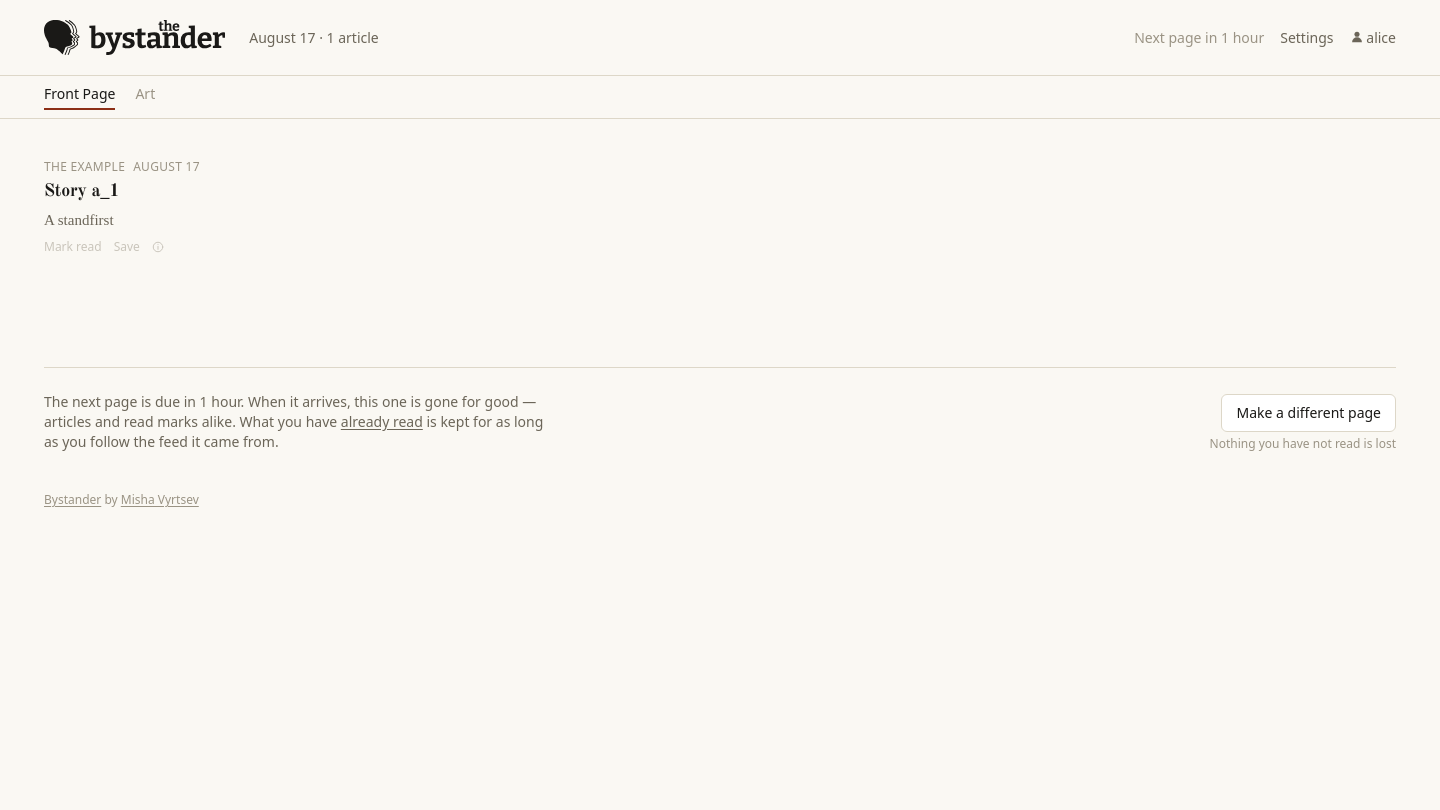
Scenario: ReaderPage composing › goes back to the top whether or not it composed anything
Click the button "Make a different page" at x=1309, y=413, box [1222,394,1396,432]
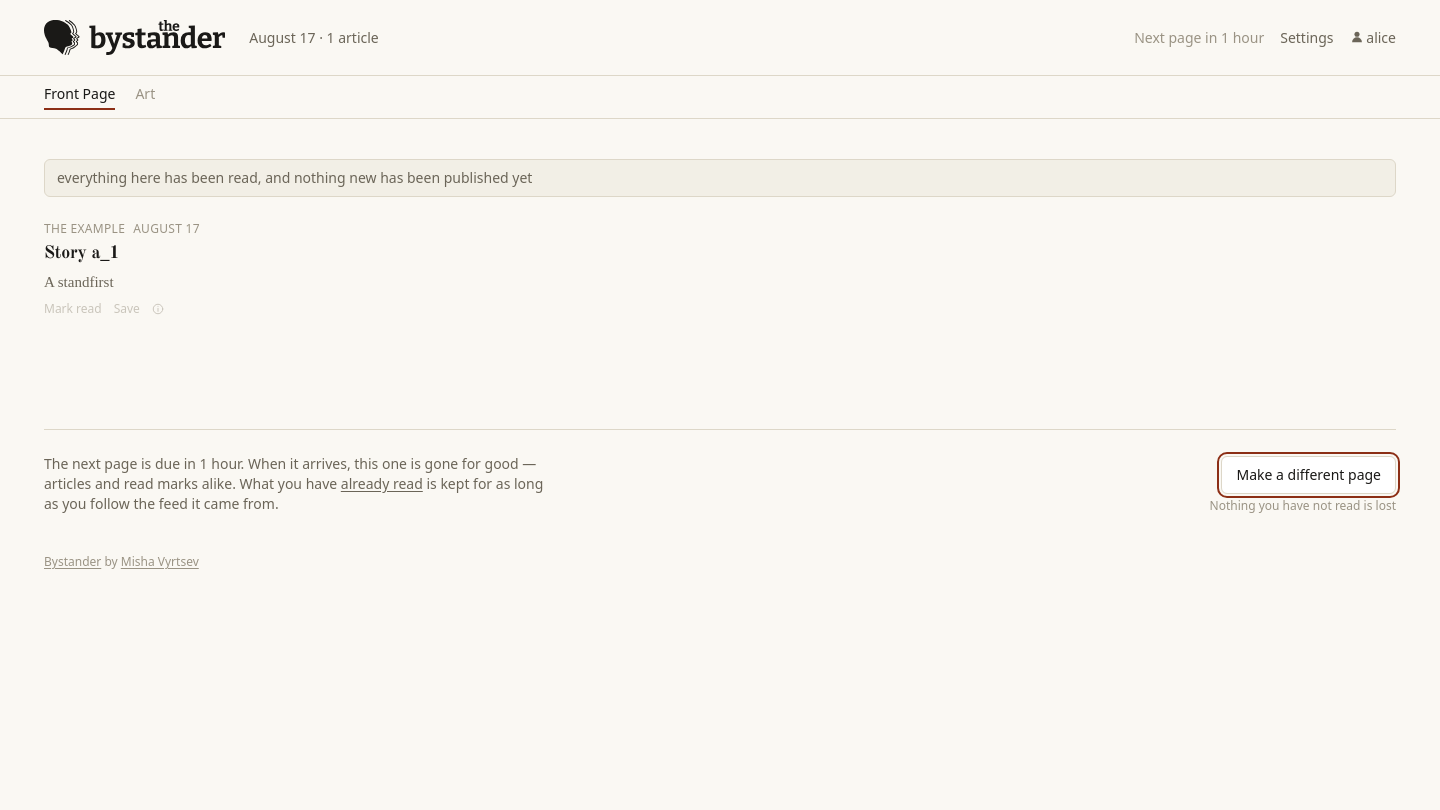
Result: the text "everything here has been read" is shown at [57,168,532,187]
